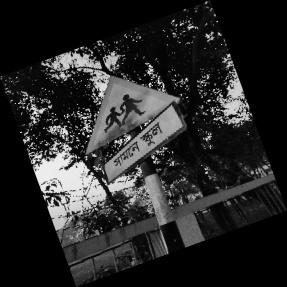School-in-front: (87, 79, 187, 185)
